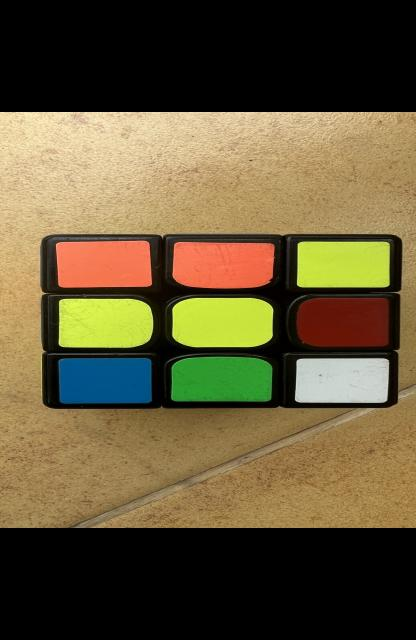Blue: (58, 358, 151, 404)
Green: (170, 357, 271, 401)
Orange: (171, 242, 273, 288), (55, 240, 151, 288)
Red: (295, 298, 388, 347)
White: (295, 358, 388, 403)
Yellow: (171, 298, 273, 348), (58, 299, 153, 348), (296, 241, 390, 288)
